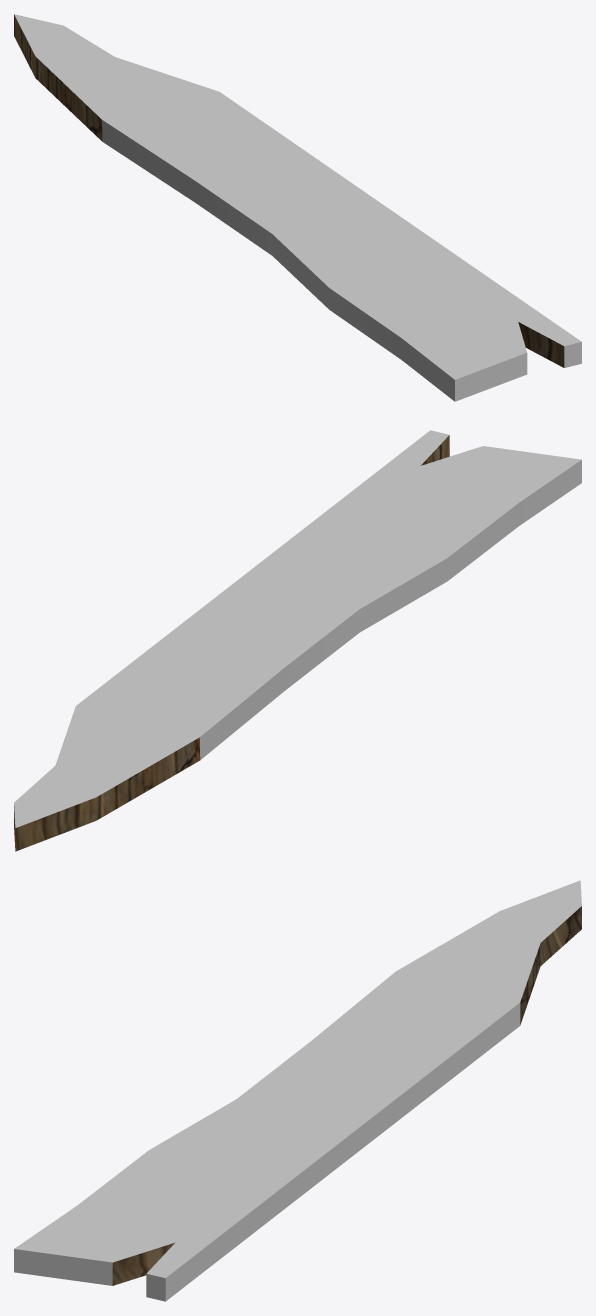
File: lower_city_wood_plank_02.fbx
3 views of the same model, one above another, from view 1: azimuth 30°, elevation 25°; view 2: azimuth 150°, elevation 25°; view 3: azimuth 330°, elevation 25° (orthographic). The views are drawn at different scales.
Parts seen in each view (by area): view 1: lower_city_wood_plank_02; view 2: lower_city_wood_plank_02; view 3: lower_city_wood_plank_02.
Boxes of the visible parts, left/top/right/bottom form: lower_city_wood_plank_02: left=14, top=14, right=581, bottom=401; lower_city_wood_plank_02: left=14, top=430, right=581, bottom=851; lower_city_wood_plank_02: left=14, top=880, right=581, bottom=1301.
Bounding box in the file's own units: 0.4611 × 0.0718 × 2.88.
